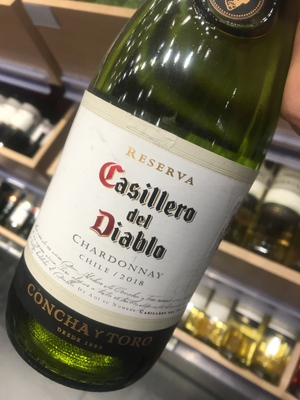casillero del diablo chardonnay: (22, 27, 254, 399)
